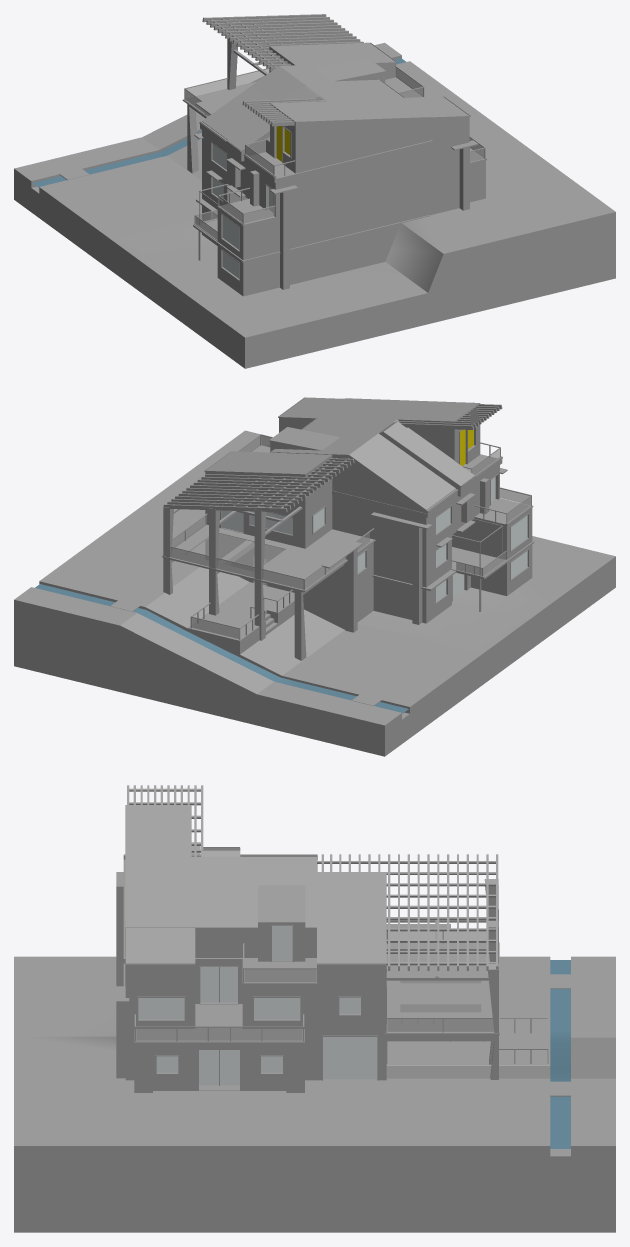
Rendered from HouseAndTerrain.fbx.
3 views of the same model, one above another, from view 1: azimuth 30°, elevation 25°; view 2: azimuth 150°, elevation 25°; view 3: azimuth 270°, elevation 25° (orthographic). The views are drawn at different scales.
Parts seen in each view (by area): view 1: pCube185, pCube143, pPlane1; view 2: pCube185, pCube143, pPlane1; view 3: pCube185, pCube143, pPlane1.
Part boxes in pixels (<box>): pCube185: <box>14,42,615,368</box>; pCube143: <box>182,14,486,296</box>; pPlane1: <box>32,58,405,187</box>; pCube185: <box>14,430,615,756</box>; pCube143: <box>162,397,534,660</box>; pPlane1: <box>35,584,408,713</box>; pCube185: <box>14,956,615,1232</box>; pCube143: <box>116,785,548,1092</box>; pPlane1: <box>550,960,570,1148</box>.
Bounding box in the file's own units: 104 × 53.04 × 113.
